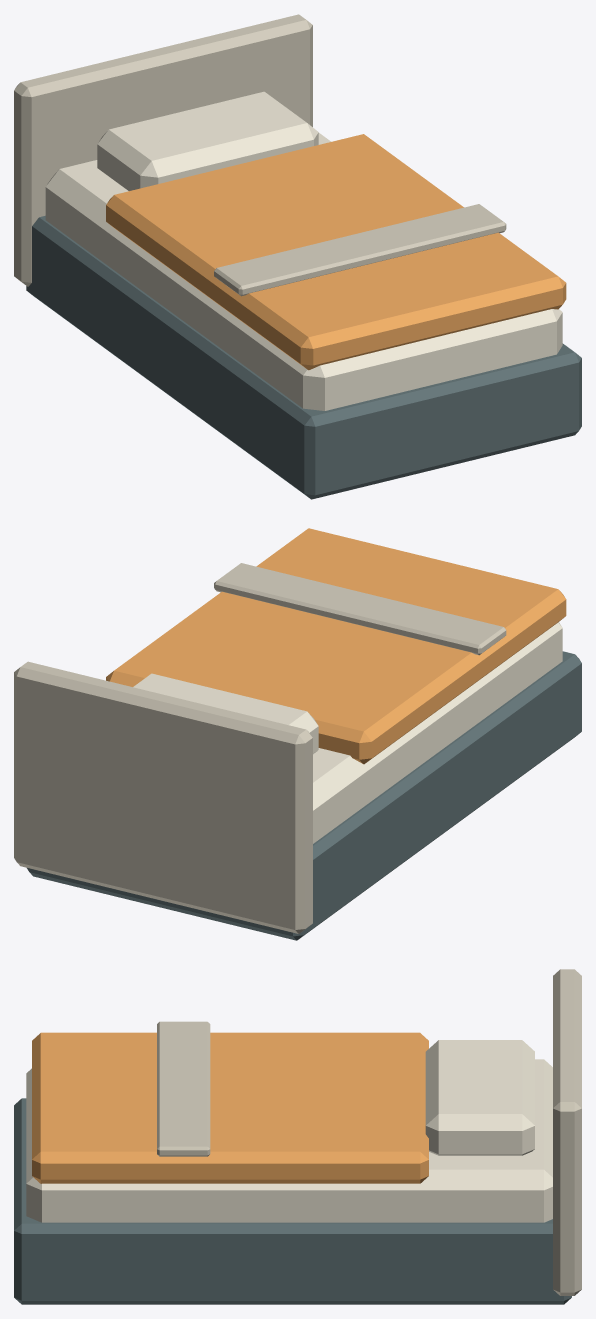
Rendered from bed.glb.
3 views of the same model, one above another, from view 1: azimuth 30°, elevation 25°; view 2: azimuth 150°, elevation 25°; view 3: azimuth 270°, elevation 25° (orthographic). The views are drawn at different scales.
Parts seen in each view (by area): view 1: bed; view 2: bed; view 3: bed.
Part boxes in pixels (x1=…): bed: x1=14, y1=14, x2=581, y2=499; bed: x1=14, y1=528, x2=581, y2=940; bed: x1=14, y1=969, x2=581, y2=1304.
Size of the model in its own units: 1.47 by 1.02 by 2.55.
